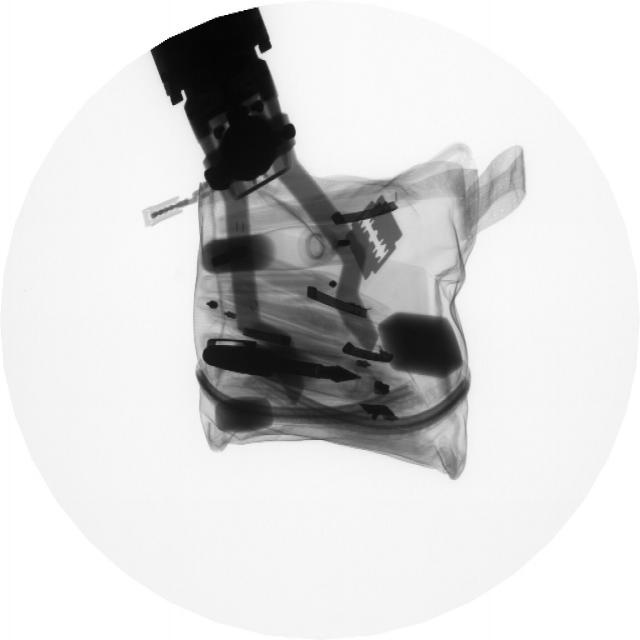BLADE: (330, 196, 405, 280)
